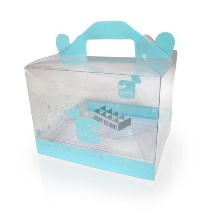plastic_box: (17, 11, 187, 187)
